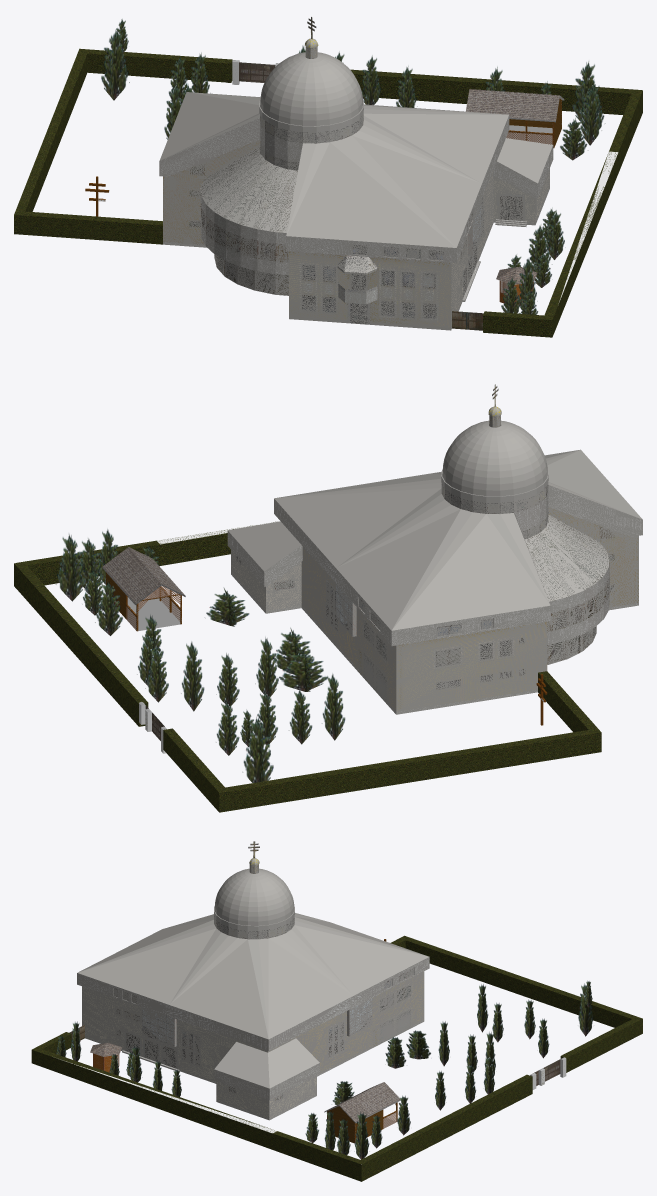
File: grecko.glb
3 views of the same model, one above another, from view 1: azimuth 30°, elevation 25°; view 2: azimuth 150°, elevation 25°; view 3: azimuth 270°, elevation 25° (orthographic). The views are drawn at different scales.
Parts seen in each view (by area): view 1: material_4, kríky, Material17, stena-juh-dole, Color_002, Roofing_Shingles_Asphalt, Color_006, stena-priecelie-vlavo, material, material_3, brána1, bránka (+1 smaller); view 2: material_4, kríky, Material17, stena-zapad, Color_002, Roofing_Shingles_Asphalt, Color_006, stena_sever, stena-priecelie-vpravo, material_8, material_2; view 3: material_4, kríky, Material17, Color_002, material_3, Roofing_Shingles_Asphalt, stena_sever, material_1, material, Color_006, okno_4x4.
Part boxes in pixels (bbox=[...]): material_4: bbox=[159, 38, 553, 330]; kríky: bbox=[14, 48, 642, 337]; Material17: bbox=[101, 19, 605, 314]; stena-juh-dole: bbox=[289, 252, 450, 329]; Color_002: bbox=[160, 61, 552, 293]; Roofing_Shingles_Asphalt: bbox=[466, 89, 559, 284]; Color_006: bbox=[466, 90, 564, 146]; stena-priecelie-vlavo: bbox=[163, 142, 259, 244]; material: bbox=[98, 65, 642, 303]; material_3: bbox=[451, 170, 549, 310]; brána1: bbox=[239, 62, 275, 82]; bránka: bbox=[452, 311, 483, 330]; material_4: bbox=[227, 406, 642, 714]; kríky: bbox=[14, 521, 601, 812]; Material17: bbox=[56, 529, 345, 782]; stena-zapad: bbox=[396, 622, 547, 710]; Color_002: bbox=[139, 487, 641, 753]; Roofing_Shingles_Asphalt: bbox=[102, 547, 184, 603]; Color_006: bbox=[102, 549, 182, 630]; stena_sever: bbox=[302, 550, 395, 708]; stena-priecelie-vpravo: bbox=[549, 509, 638, 605]; material_8: bbox=[126, 586, 180, 630]; material_2: bbox=[392, 607, 550, 644]; material_4: bbox=[77, 858, 429, 1120]; kríky: bbox=[31, 935, 642, 1181]; Material17: bbox=[56, 981, 593, 1159]; Color_002: bbox=[78, 959, 566, 1098]; material_3: bbox=[82, 987, 316, 1116]; Roofing_Shingles_Asphalt: bbox=[90, 1042, 400, 1122]; stena_sever: bbox=[273, 974, 424, 1072]; material_1: bbox=[327, 1106, 382, 1142]; material: bbox=[60, 1044, 621, 1164]; Color_006: bbox=[324, 1082, 400, 1140]; okno_4x4: bbox=[142, 998, 372, 1045].
Bounding box in the file's own units: 62.58 × 24.38 × 73.15.
Materials: 99 (86 with a texture image).
